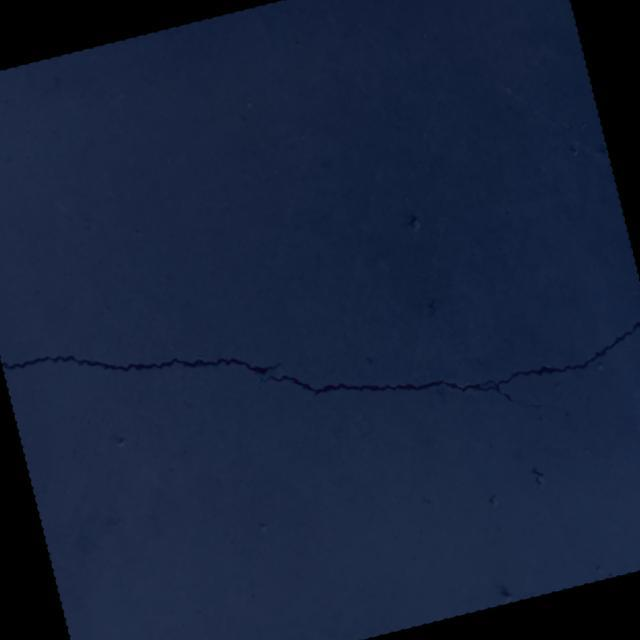crack: (1, 208, 640, 535)
